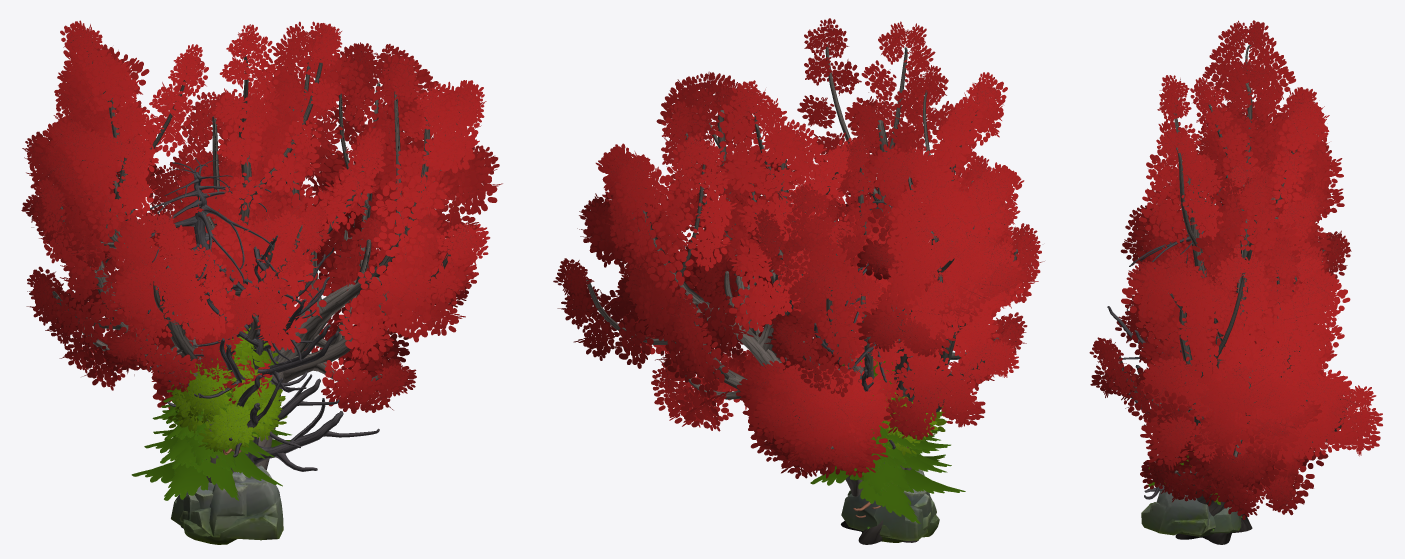
The model's file is nature.glb.
3 views of the same model, side by side, from view 1: azimuth 30°, elevation 25°; view 2: azimuth 150°, elevation 25°; view 3: azimuth 270°, elevation 25° (orthographic). The views are drawn at different scales.
Visible parts, largest first — view 1: TwistedTree_2, TwistedTree_1, DeadTree_2, CommonTree_1, Pine_2, Rock_Medium_3, CommonTree_2, DeadTree_3, DeadTree_1, Rock_Medium_1, Pine_1; view 2: TwistedTree_1, TwistedTree_2, Pine_2, Rock_Medium_2, Pine_1, CommonTree_1; view 3: TwistedTree_1, TwistedTree_2, Rock_Medium_3, Rock_Medium_2, DeadTree_2, DeadTree_3.
Part boxes in pixels (x1,y1,x2,y2): TwistedTree_2: [21, 20, 342, 482]; TwistedTree_1: [151, 21, 502, 528]; DeadTree_2: [169, 219, 379, 471]; CommonTree_1: [168, 342, 287, 452]; Pine_2: [131, 355, 291, 500]; Rock_Medium_3: [183, 465, 283, 544]; CommonTree_2: [171, 327, 285, 454]; DeadTree_3: [105, 158, 301, 362]; DeadTree_1: [146, 277, 339, 447]; Rock_Medium_1: [179, 472, 247, 537]; Pine_1: [144, 364, 274, 469]; TwistedTree_1: [553, 71, 918, 544]; TwistedTree_2: [753, 18, 1044, 470]; Pine_2: [810, 423, 965, 523]; Rock_Medium_2: [841, 489, 927, 540]; Pine_1: [856, 358, 951, 511]; CommonTree_1: [861, 359, 946, 456]; TwistedTree_1: [1089, 170, 1382, 544]; TwistedTree_2: [1120, 20, 1351, 376]; Rock_Medium_3: [1141, 485, 1211, 535]; Rock_Medium_2: [1210, 507, 1241, 533]; DeadTree_2: [1107, 253, 1193, 499]; DeadTree_3: [1129, 187, 1236, 539].
Size of the model in its own units: 17.96 by 19.08 by 11.55.
11 materials, 11 textured.
